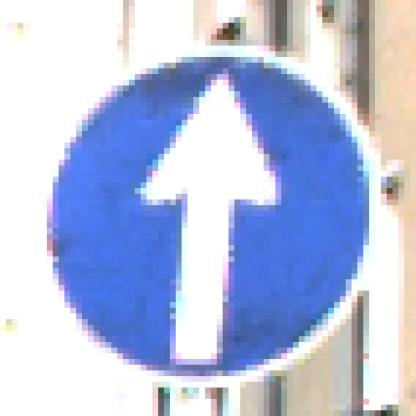AheadOnly: (36, 41, 382, 383)
